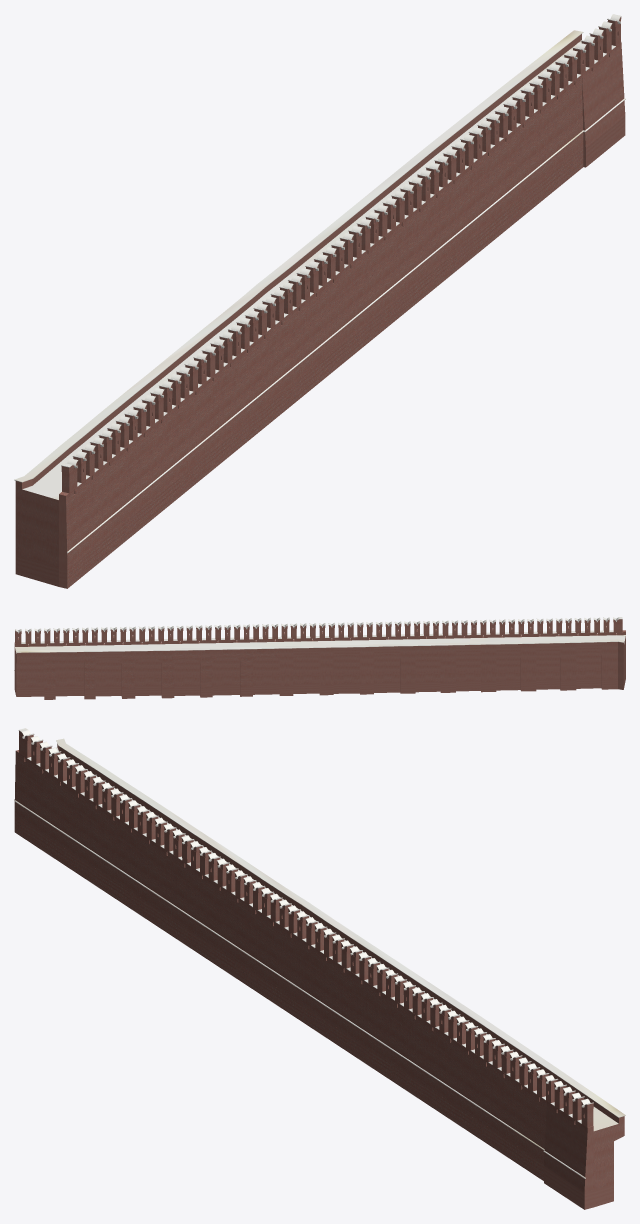
The model's file is 01080_Kremlevskaya_stena_5.FBX.
3 renders of one model, top to bottom at view 1: azimuth 30°, elevation 25°; view 2: azimuth 150°, elevation 25°; view 3: azimuth 270°, elevation 25°, orthographic. The views are drawn at different scales.
Visible parts, largest first — view 1: Group_450, Group_449, Group_455, Group_454, Group_453, Group_456, Group_448, Group_451; view 2: Group_454, Group_455, Group_456, Group_453, Group_450, Group_449, Group_448; view 3: Group_450, Group_449, Group_455, Group_454, Group_453, Group_448, Group_451, Group_456.
Part boxes in pixels (<box>): Group_450: <box>59,269,345,568</box>; Group_449: <box>344,74,583,341</box>; Group_455: <box>15,116,625,588</box>; Group_454: <box>15,34,581,566</box>; Group_453: <box>14,30,583,482</box>; Group_456: <box>22,40,582,499</box>; Group_448: <box>582,42,625,147</box>; Group_451: <box>67,130,583,553</box>; Group_454: <box>15,636,625,689</box>; Group_455: <box>14,670,625,699</box>; Group_456: <box>15,635,625,653</box>; Group_453: <box>16,639,624,652</box>; Group_450: <box>320,630,625,640</box>; Group_449: <box>58,638,320,646</box>; Group_448: <box>14,642,58,679</box>; Group_450: <box>14,750,301,1003</box>; Group_449: <box>300,940,546,1163</box>; Group_455: <box>14,815,613,1209</box>; Group_454: <box>57,744,624,1189</box>; Group_453: <box>56,738,625,1117</box>; Group_448: <box>544,1101,593,1192</box>; Group_451: <box>14,800,544,1150</box>; Group_456: <box>56,747,618,1131</box>.
Size of the model in its own units: 96.59 by 12.09 by 64.25.
Materials: 6 (6 with a texture image).
